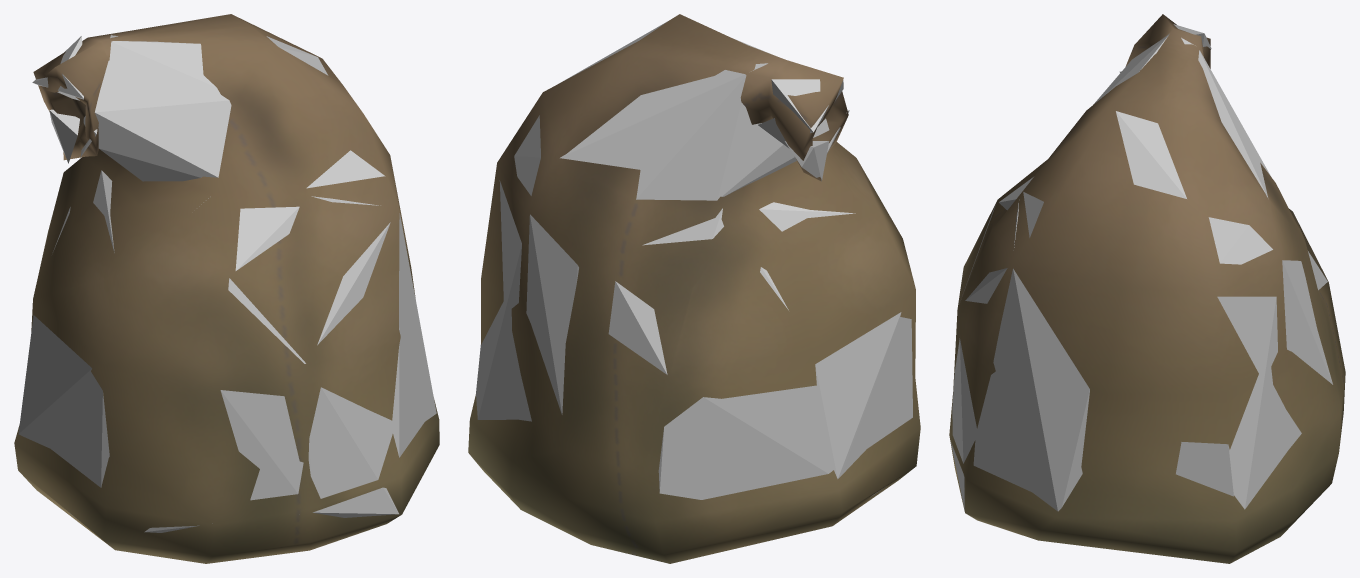
File: SM_Bag_c.fbx
3 views of the same model, side by side, from view 1: azimuth 30°, elevation 25°; view 2: azimuth 150°, elevation 25°; view 3: azimuth 270°, elevation 25° (orthographic). The views are drawn at different scales.
Visible parts, largest first — view 1: SM_Bag_c, SM_Bag_c_ConvexHulls; view 2: SM_Bag_c, SM_Bag_c_ConvexHulls; view 3: SM_Bag_c, SM_Bag_c_ConvexHulls.
Part boxes in pixels (x1,y1,x2,y2): SM_Bag_c: [14, 14, 439, 563]; SM_Bag_c_ConvexHulls: [18, 34, 436, 532]; SM_Bag_c: [468, 14, 920, 563]; SM_Bag_c_ConvexHulls: [476, 20, 912, 499]; SM_Bag_c: [949, 14, 1345, 563]; SM_Bag_c_ConvexHulls: [950, 24, 1332, 511].
Bounding box in the file's own units: 57.01 × 60.8 × 71.
